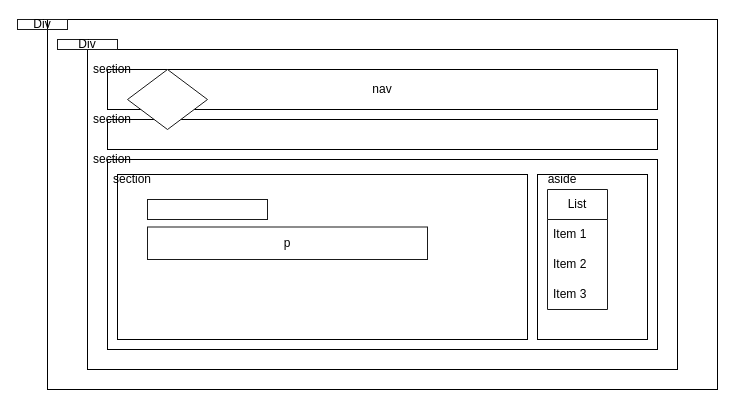
This 735x407 diagram has some shape labels left out. The shapes that lost their labels are listed below. From the top down, each one's centre as x and y in pixels, then its label:
At point (167, 99): "image".
At point (207, 209): "h1".
